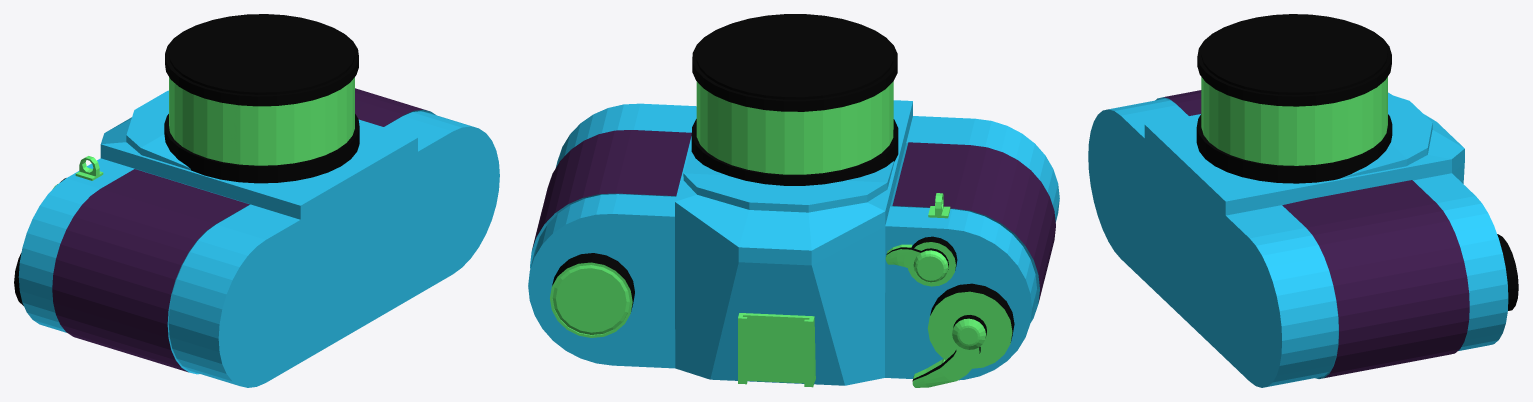
File: ToyObject_059.fbx
3 renders of one model, left to right at view 1: azimuth 30°, elevation 25°; view 2: azimuth 150°, elevation 25°; view 3: azimuth 270°, elevation 25°, orthographic. The views are drawn at different scales.
Parts seen in each view (by area): view 1: Object.072; view 2: Object.072; view 3: Object.072.
Boxes of the visible parts, box(x1,y1,x2,y2) form: Object.072: box(14, 14, 499, 387); Object.072: box(528, 14, 1059, 387); Object.072: box(1088, 14, 1518, 387).
Size of the model in its own units: 0.1715 by 0.0869 by 0.1374.
